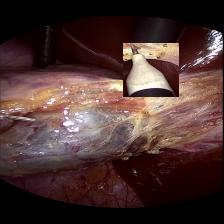Hook: (124, 42, 180, 96)
